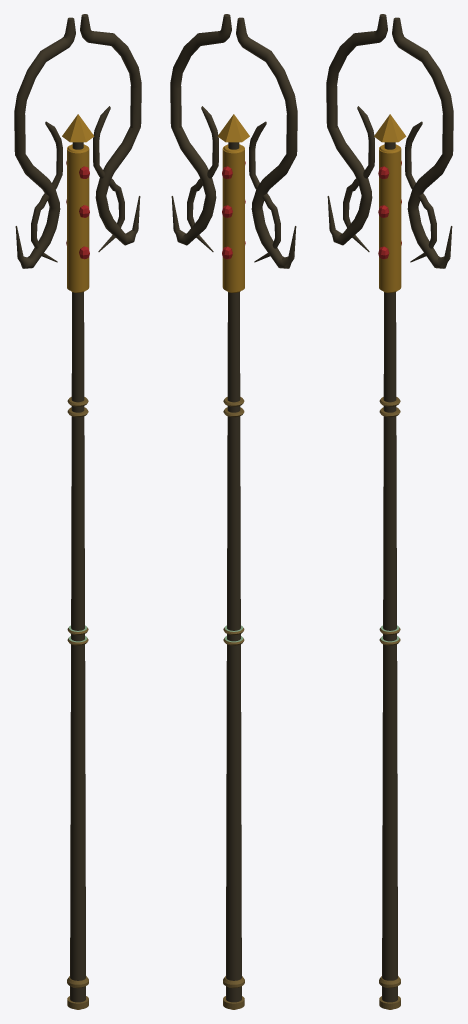
The model's file is SM_Prop_baston magico.fbx.
3 views of the same model, side by side, from view 1: azimuth 30°, elevation 25°; view 2: azimuth 150°, elevation 25°; view 3: azimuth 330°, elevation 25° (orthographic).
Parts seen in each view (by area): view 1: baston; view 2: baston; view 3: baston.
Boxes of the visible parts, box(x1,y1,x2,y2) form: baston: box(14, 14, 141, 1009); baston: box(170, 14, 297, 1009); baston: box(326, 14, 453, 1009).
Bounding box in the file's own units: 64.24 × 483 × 16.12.
Materials: 1 (1 with a texture image).
